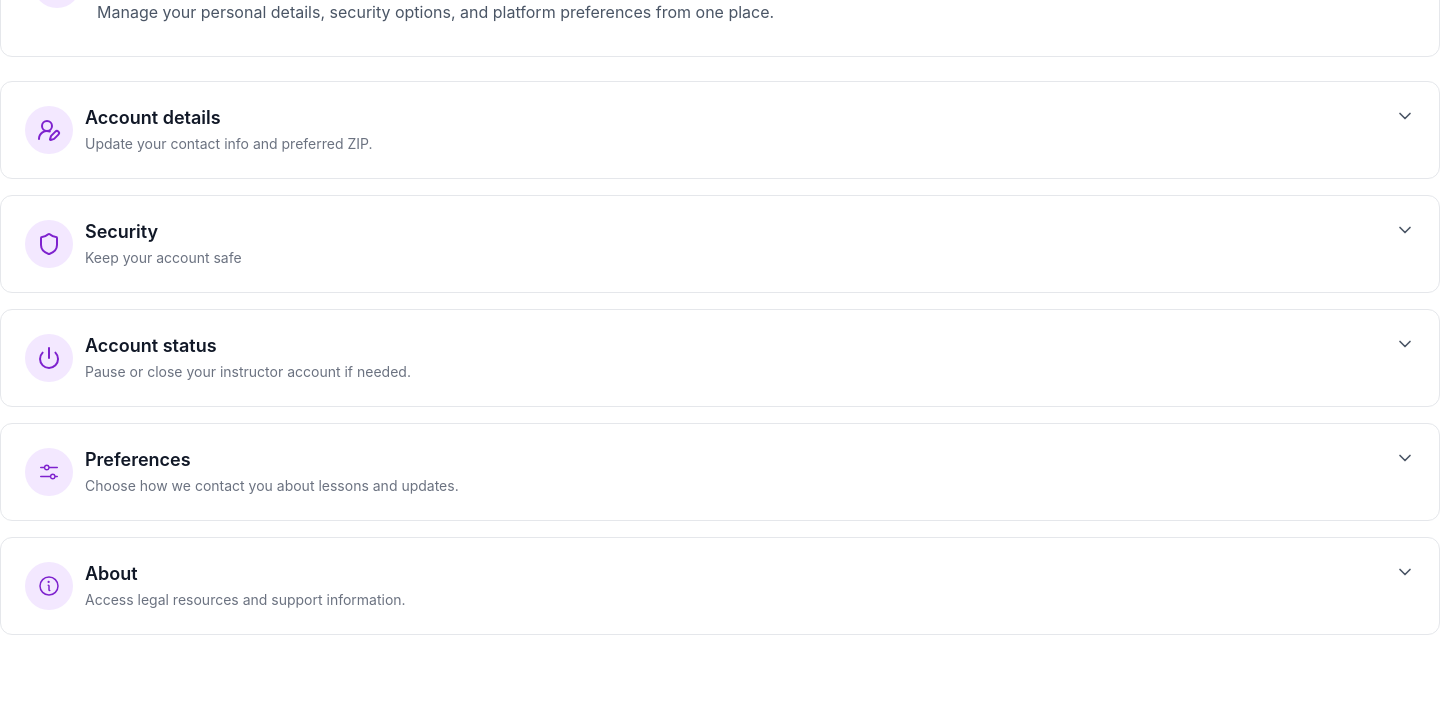
Test: SettingsImpl › renders the redesigned account details layout and keeps only one accordion section open
Click the button "Account details Update your contact info and preferred ZIP." at point(49, 130), box [25,106,1415,154]
(page scrolled)
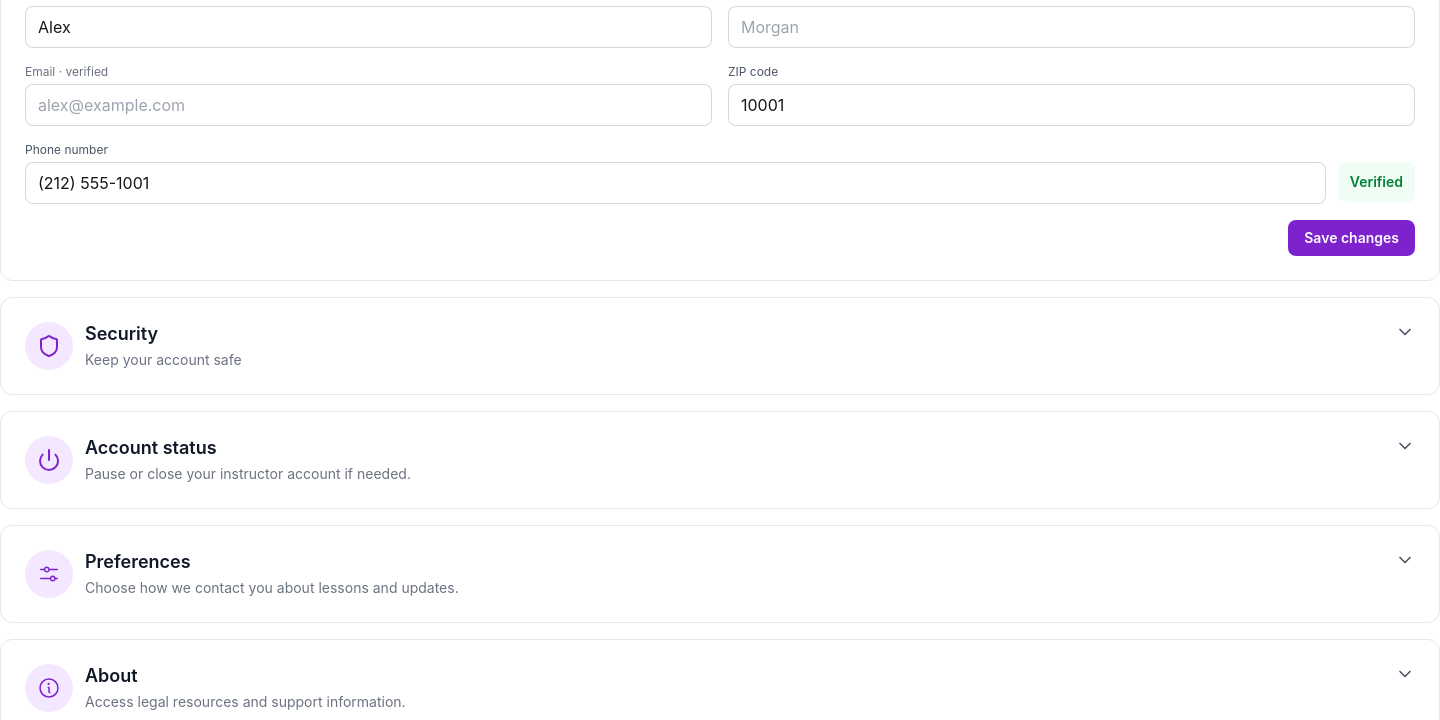
Now the field labelled "First name" holds "Alex", box [25,6,712,48]
Now the field labelled "Last name · verified" holds "Morgan", box [728,6,1415,48]
Now the field labelled "Email · verified" holds "alex@example.com", box [25,84,712,126]
Click the button "Preferences" at point(49, 574), box [25,550,1415,598]
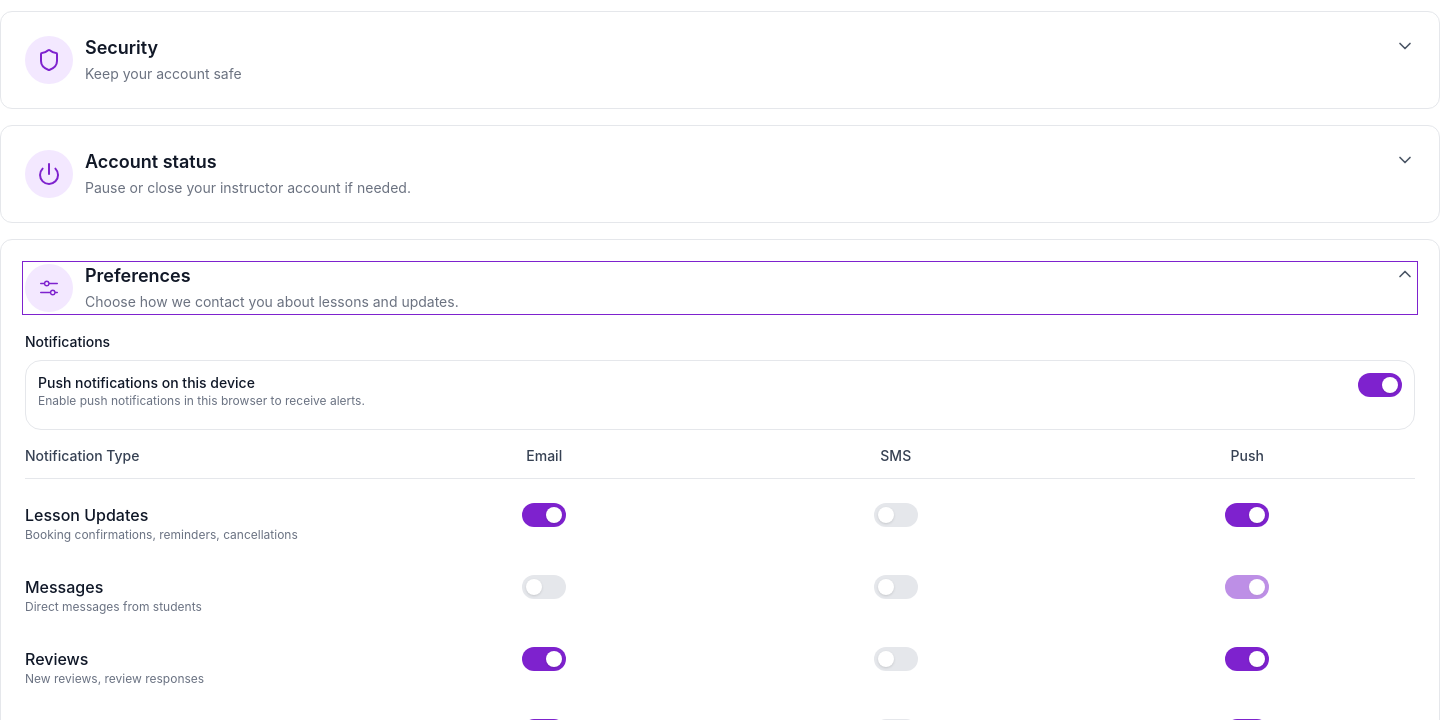
Now the heading "Notifications" is shown, box [25,333,110,350]
